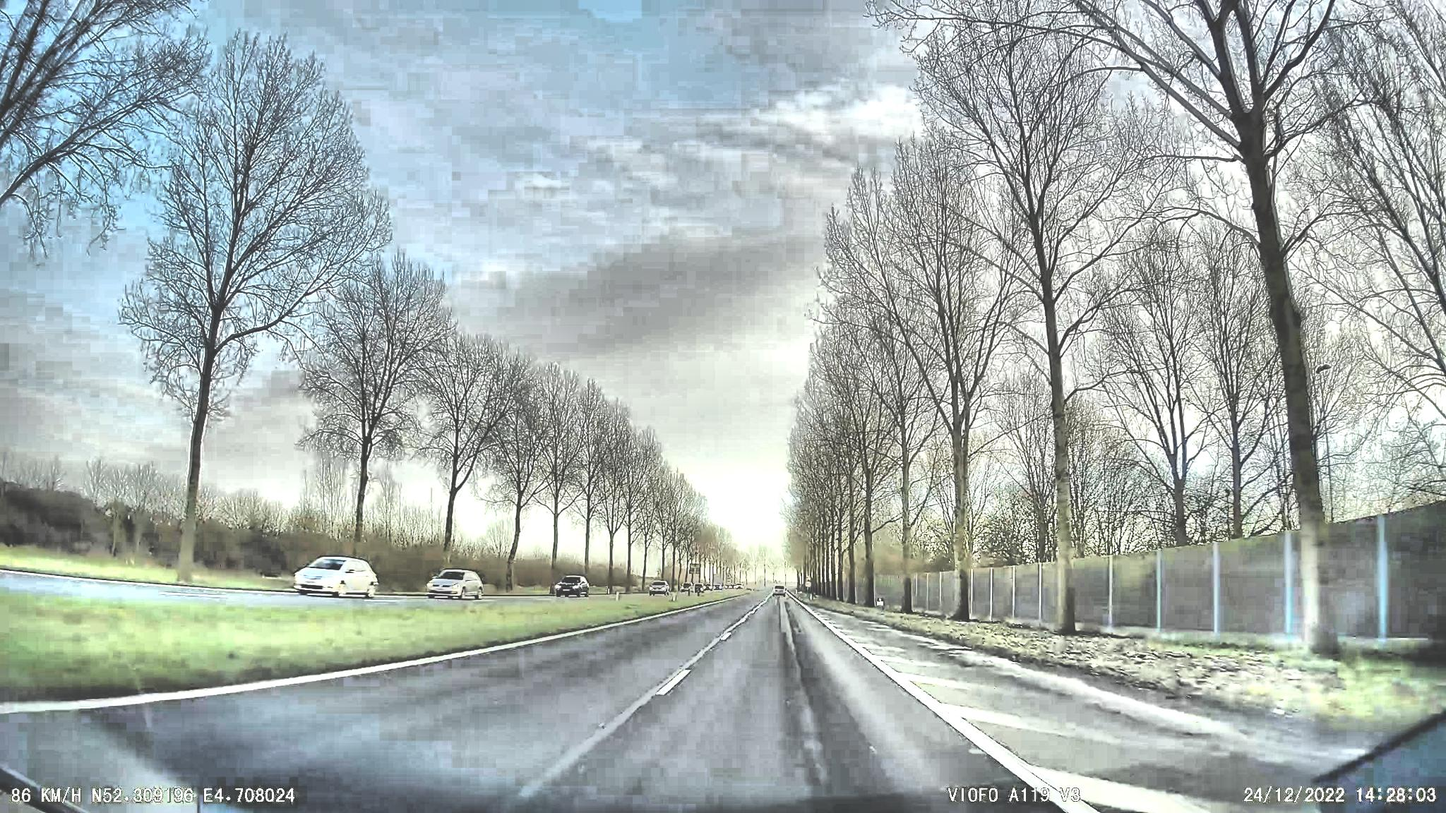Roads: (0, 600, 1327, 813)
